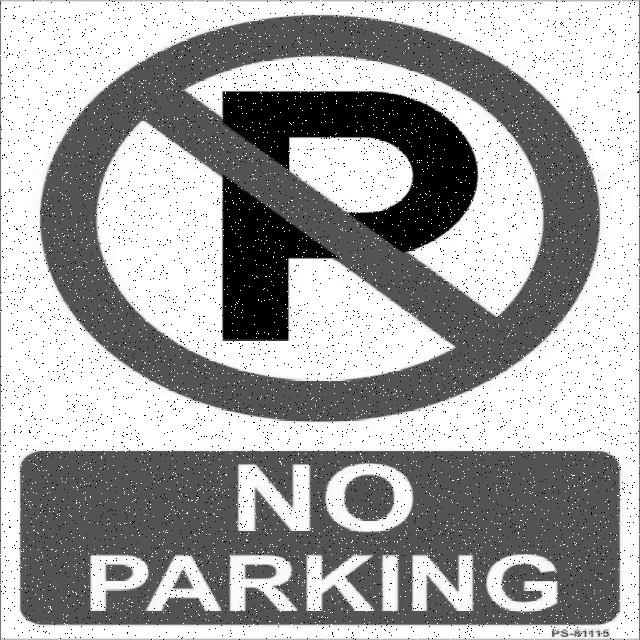No_parking: (49, 16, 607, 424)
